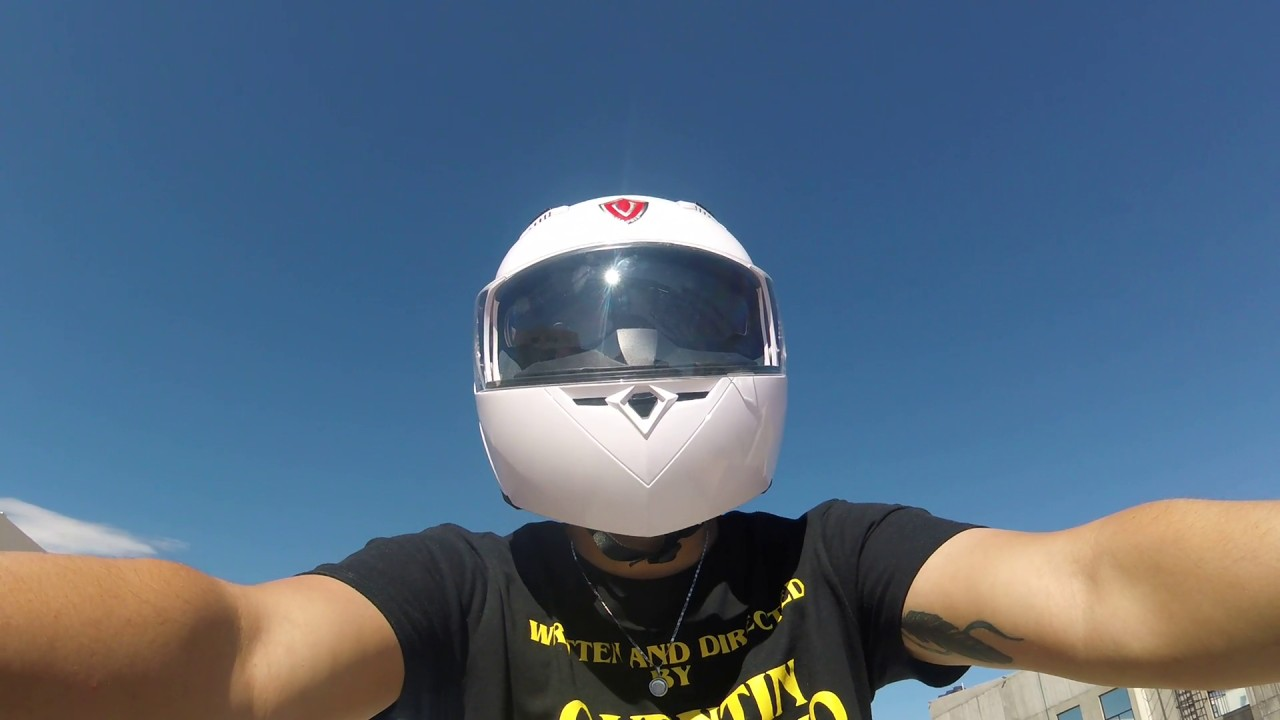With Helmet: (460, 181, 796, 544)
